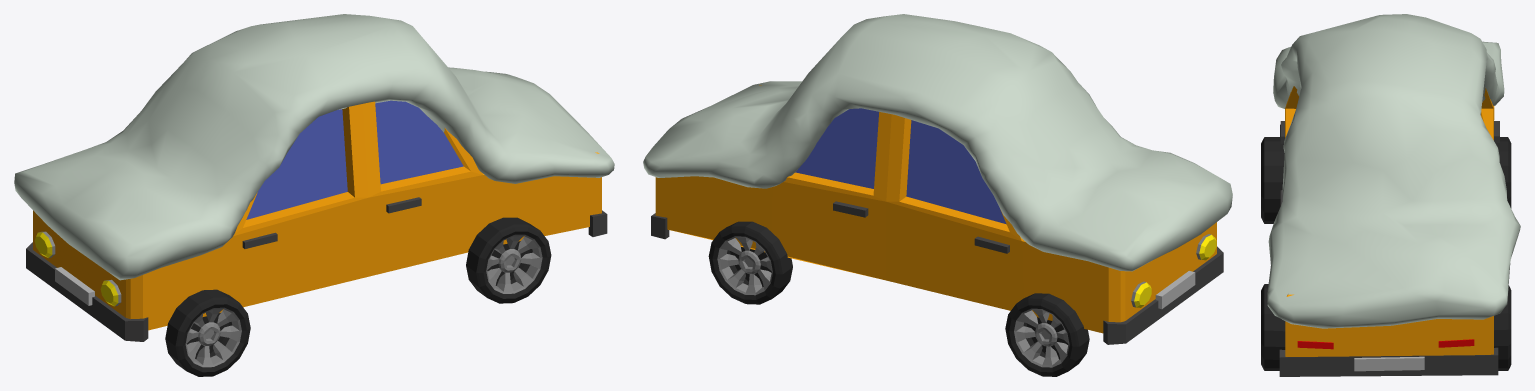
The model's file is Car-6.fbx.
3 renders of one model, left to right at view 1: azimuth 30°, elevation 25°; view 2: azimuth 150°, elevation 25°; view 3: azimuth 270°, elevation 25°, orthographic.
Visible parts, largest first — view 1: Car-6; view 2: Car-6; view 3: Car-6.
Boxes of the visible parts, <box> form: Car-6: <box>14,14,614,376</box>; Car-6: <box>643,14,1232,376</box>; Car-6: <box>1261,14,1520,376</box>.
Bounding box in the file's own units: 12.35 × 6.03 × 5.46.
